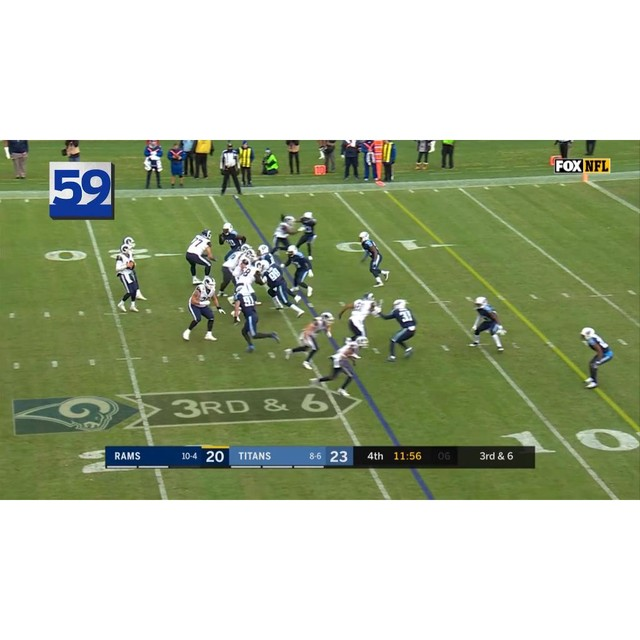american-football-player: (309, 336, 365, 394), (233, 285, 279, 351), (284, 311, 334, 368), (375, 298, 417, 362), (184, 276, 222, 342), (261, 261, 304, 318), (338, 292, 382, 344), (579, 326, 614, 388), (469, 296, 506, 351), (358, 231, 390, 287), (284, 244, 315, 298), (184, 229, 215, 283), (217, 247, 250, 297), (293, 210, 318, 258), (270, 214, 296, 259), (218, 222, 245, 259)
referee: (218, 142, 243, 197)
